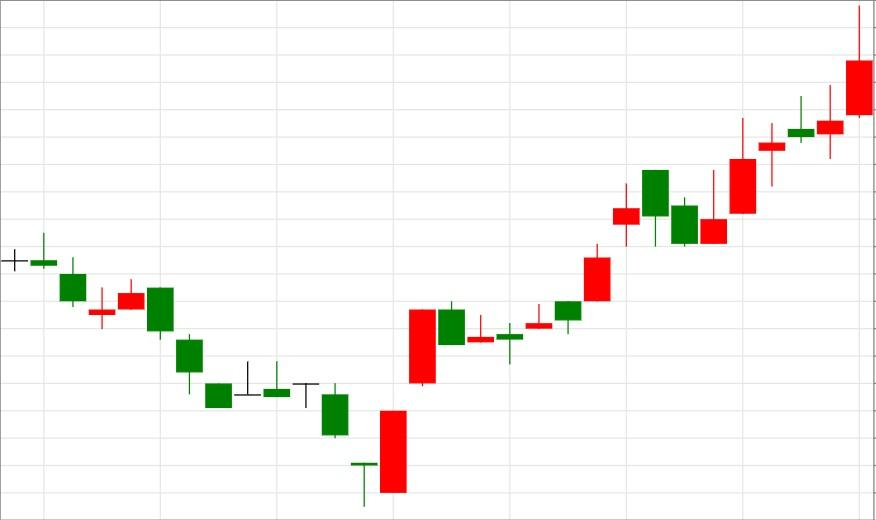three_black_crows_fall: (88, 279, 233, 409)
